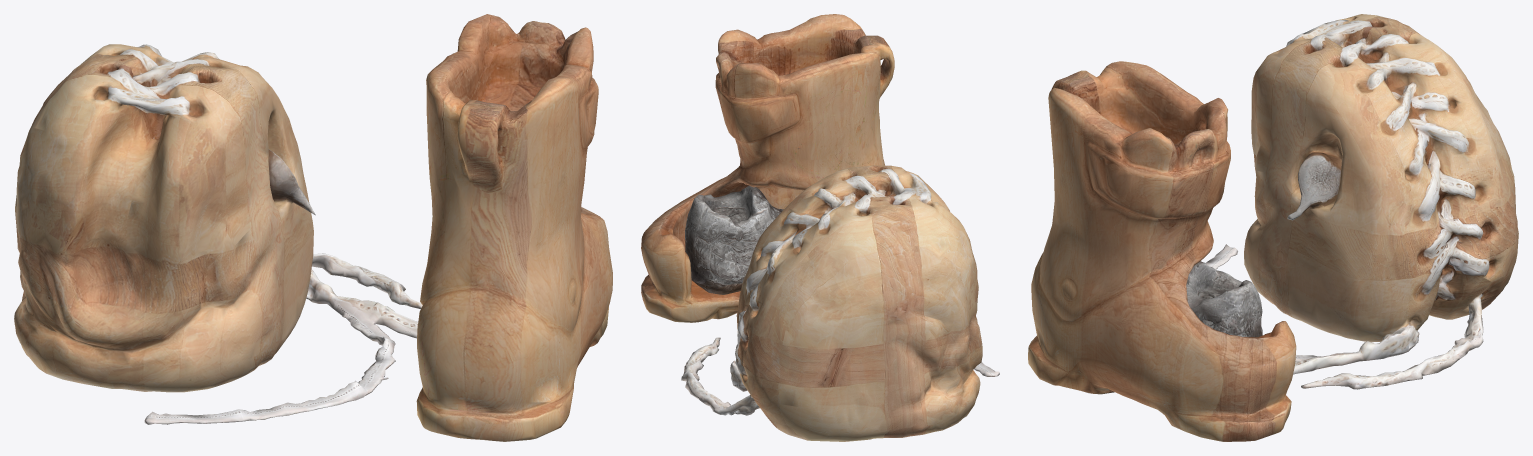
Rendered from 05_spidona.glb.
3 renders of one model, left to right at view 1: azimuth 30°, elevation 25°; view 2: azimuth 150°, elevation 25°; view 3: azimuth 270°, elevation 25°, orthographic. The views are drawn at different scales.
Visible parts, largest first — view 1: Null; view 2: Null; view 3: Null.
Boxes of the visible parts, x1,y1,x2,y2 form: Null: (14,14,612,441); Null: (641,14,999,441); Null: (1028,14,1518,441).
Size of the model in its own units: 6.39 by 4.07 by 6.22.
2 materials, 2 textured.
